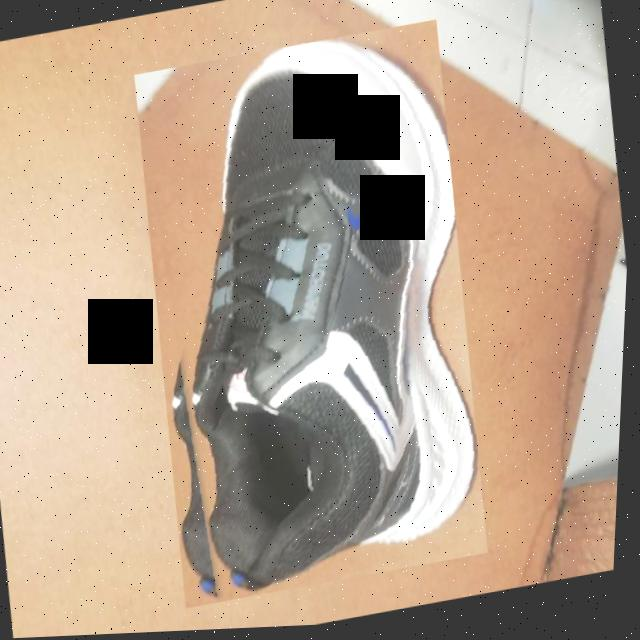shoe: (116, 21, 512, 613)
